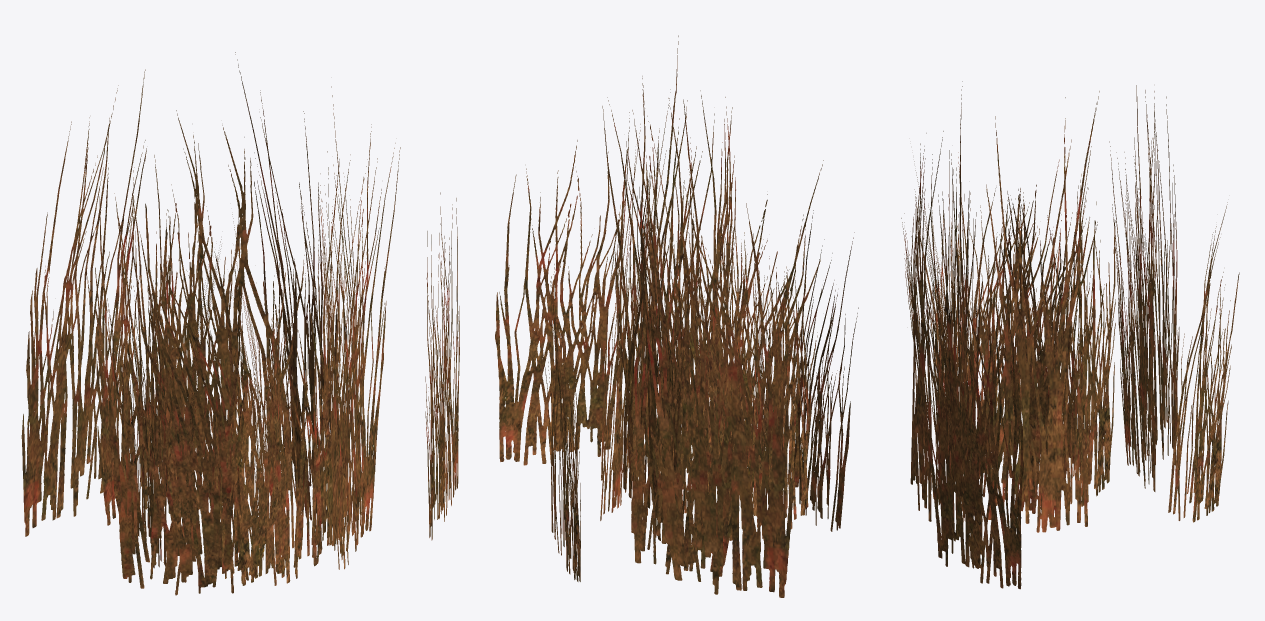
File: grass_3d_04_copper.glb
3 renders of one model, left to right at view 1: azimuth 30°, elevation 25°; view 2: azimuth 150°, elevation 25°; view 3: azimuth 270°, elevation 25°, orthographic. The views are drawn at different scales.
Parts seen in each view (by area): view 1: grass_cards; view 2: grass_cards; view 3: grass_cards.
Boxes of the visible parts, <box> form: grass_cards: <box>21,52,459,595</box>; grass_cards: <box>495,35,858,597</box>; grass_cards: <box>901,81,1239,589</box>.
Size of the model in its own units: 0.6428 by 0.7966 by 0.546.
Materials: 1 (1 with a texture image).
